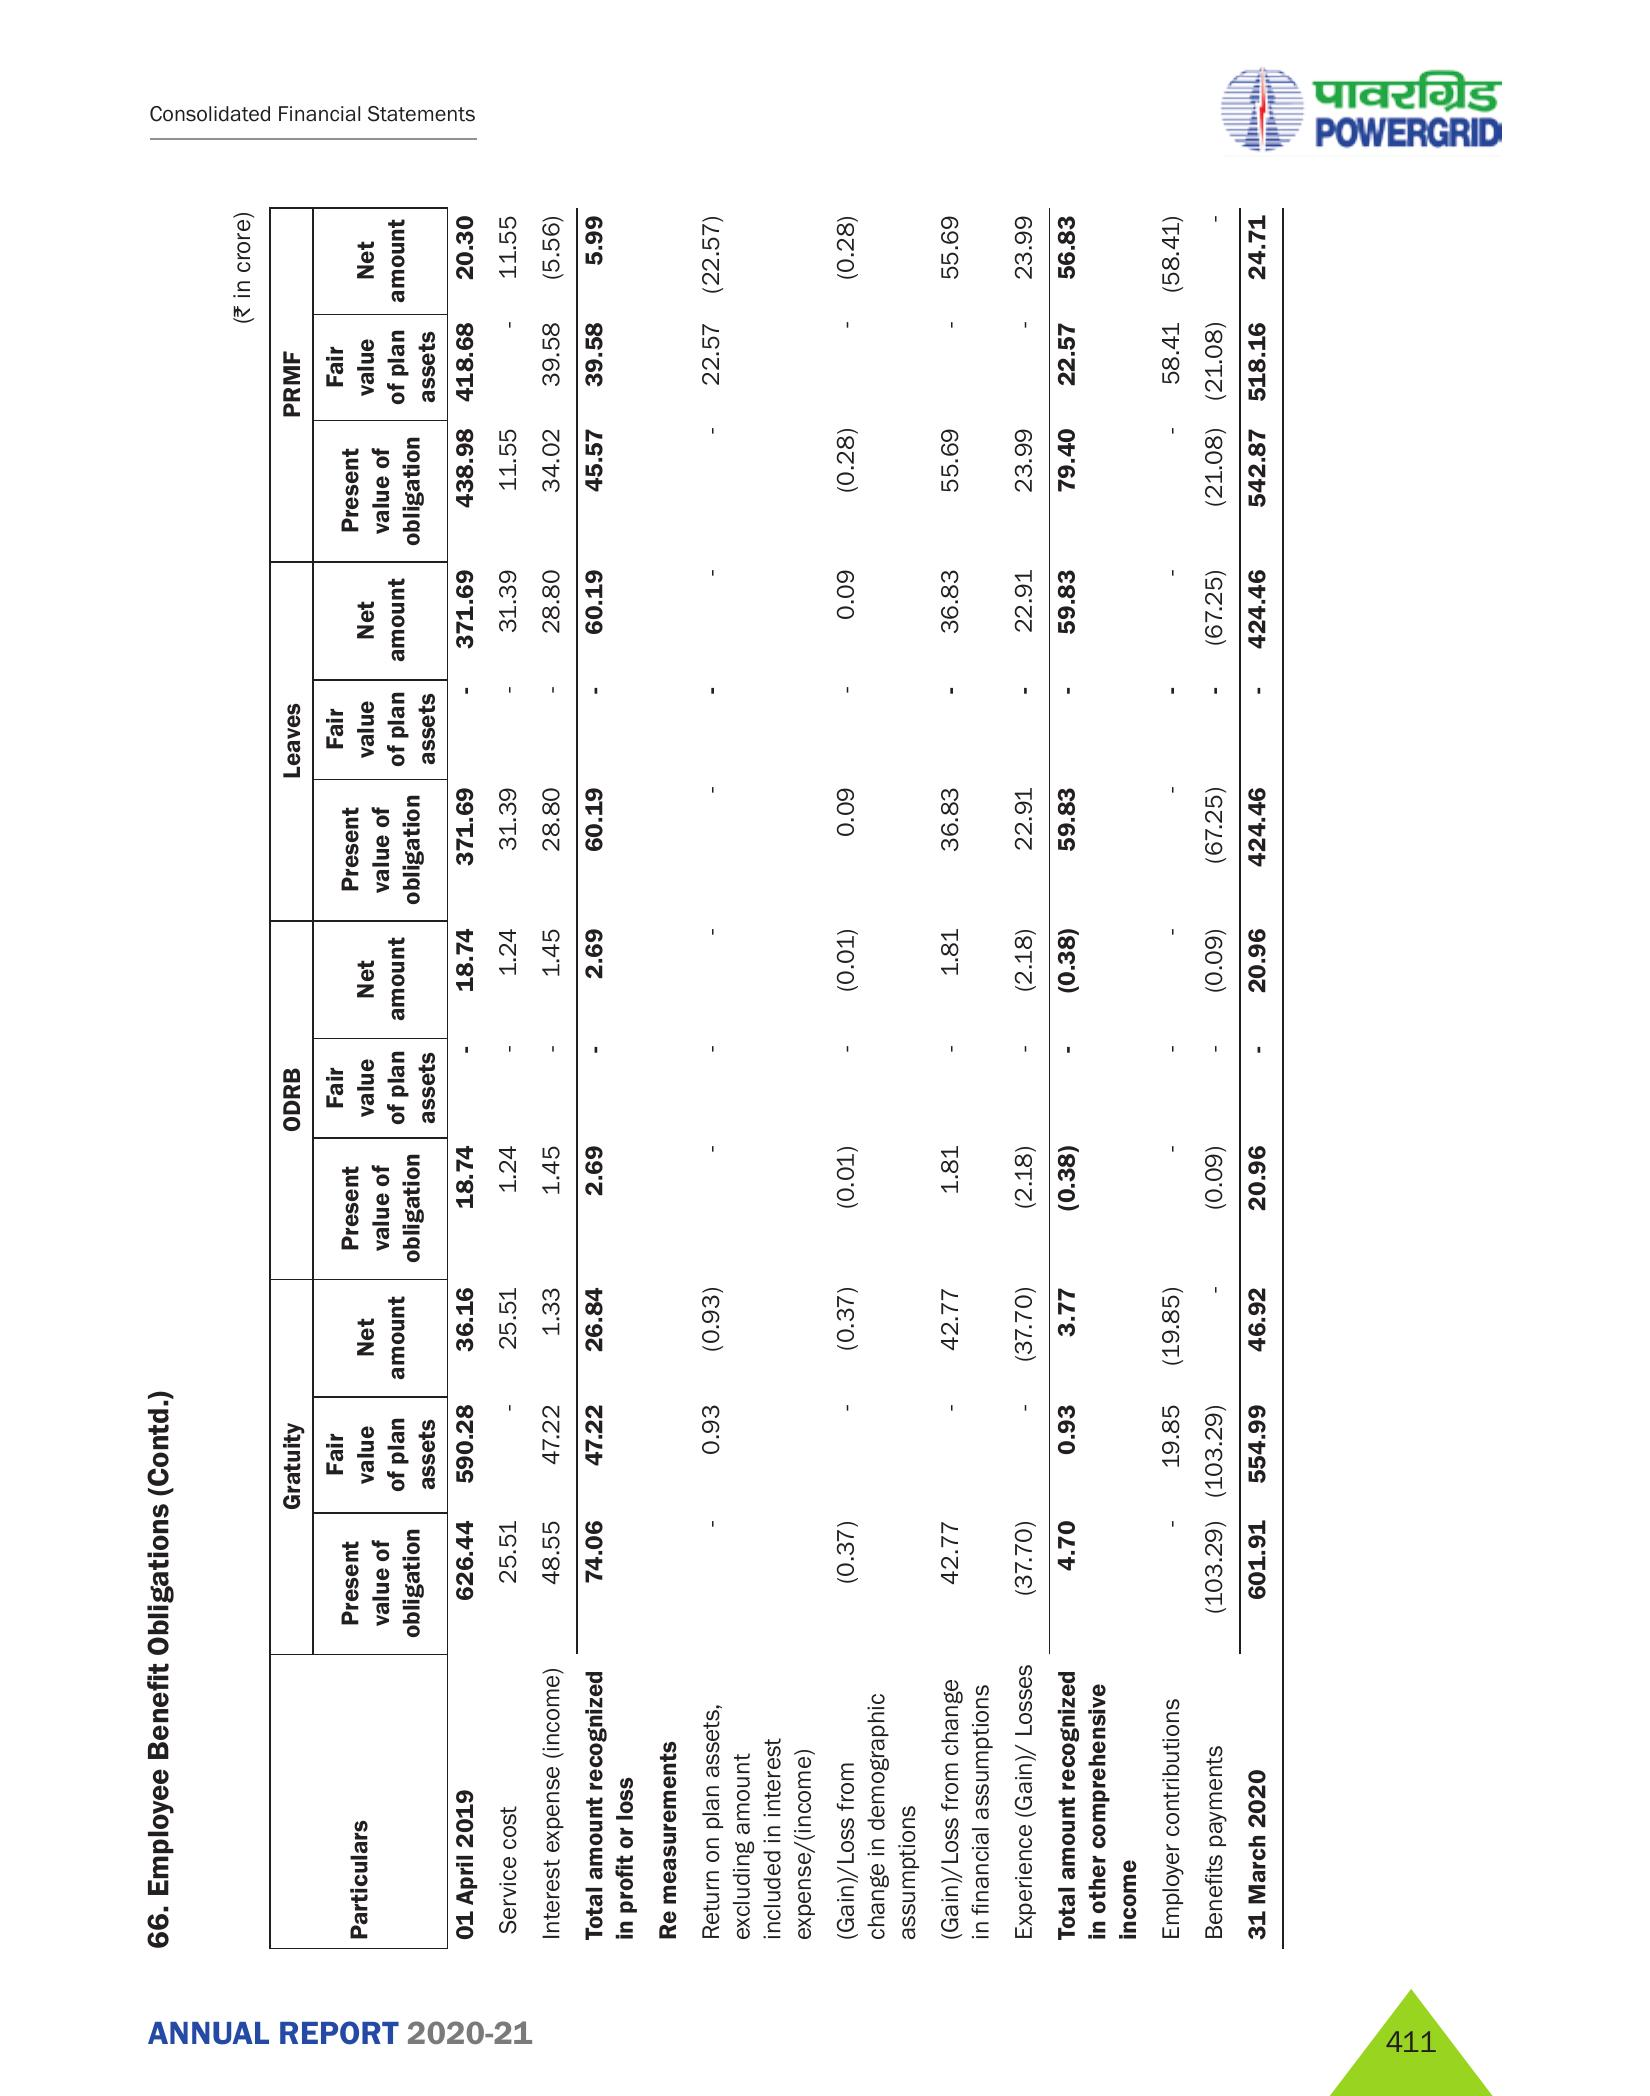Footer: (0, 1968, 1650, 2096)
Header: (0, 0, 1650, 175)
Table: (265, 192, 1303, 1953)
